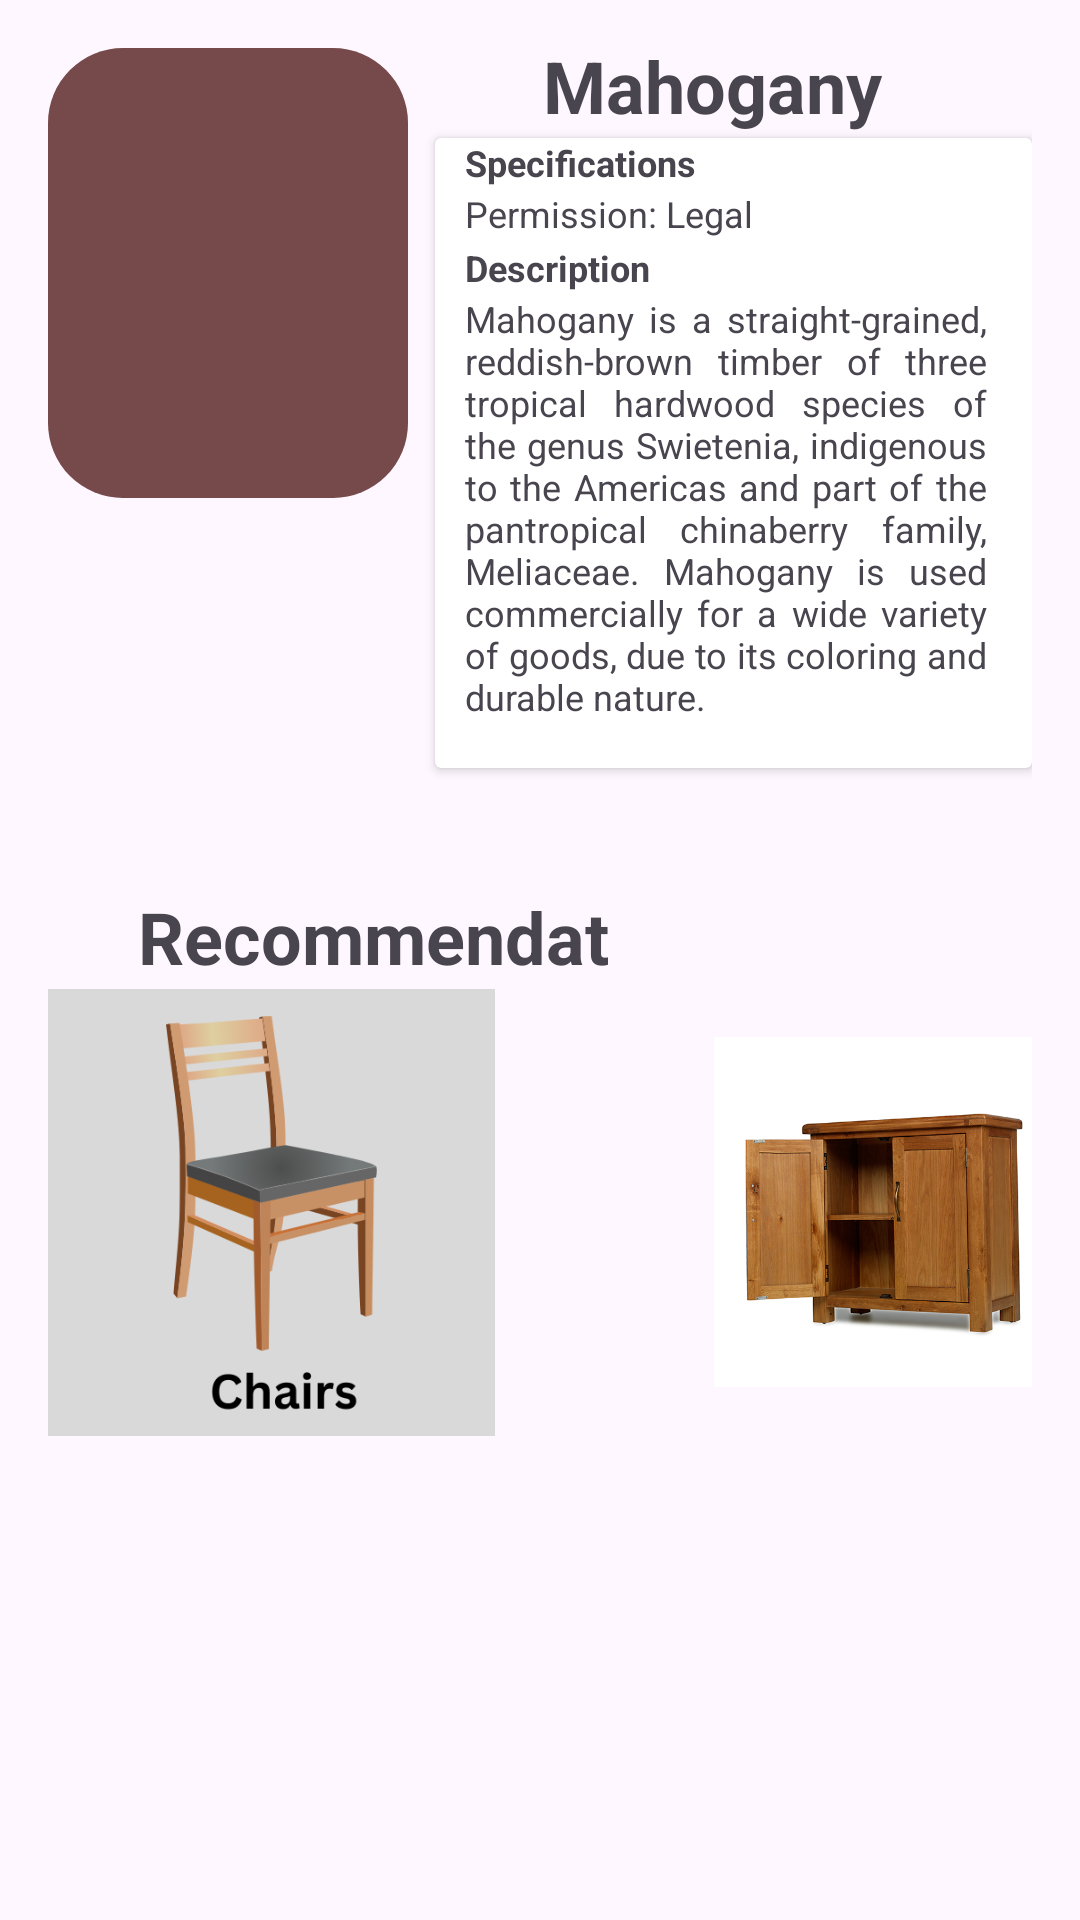

Named icons in this screenshot (1080×1920) and their centers, [x,y]:
cabinet: [884,1223]
